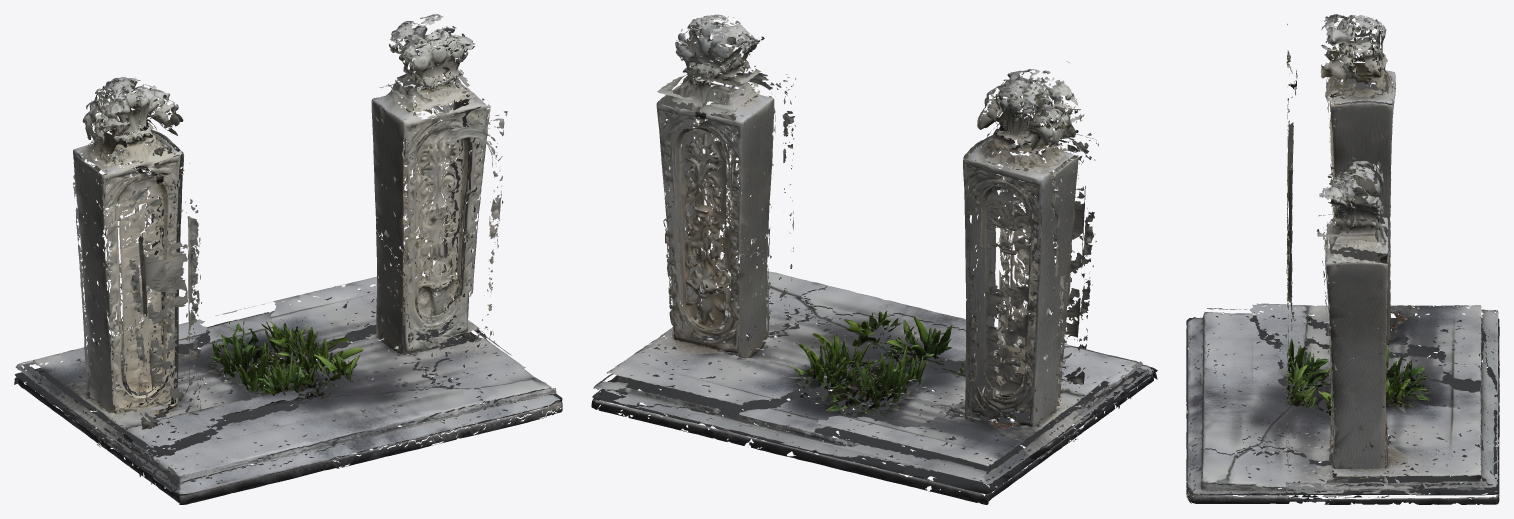
The model's file is kadin3.glb.
3 views of the same model, side by side, from view 1: azimuth 30°, elevation 25°; view 2: azimuth 150°, elevation 25°; view 3: azimuth 270°, elevation 25° (orthographic). The views are drawn at different scales.
Visible parts, largest first — view 1: Object_6, Object_5, Object_4, Object_7, Object_8, Object_9, Object_10, Object_11; view 2: Object_4, Object_6, Object_5, Object_7, Object_8, Object_9, Object_10, Object_11; view 3: Object_6, Object_4, Object_5, Object_7, Object_9, Object_8, Object_10, Object_11.
Part boxes in pixels (left/top/right/bottom): Object_6: left=14, top=26, right=562, bottom=493; Object_5: left=18, top=51, right=556, bottom=503; Object_4: left=14, top=14, right=562, bottom=495; Object_7: left=62, top=26, right=562, bottom=504; Object_8: left=64, top=25, right=505, bottom=464; Object_9: left=67, top=111, right=507, bottom=443; Object_10: left=83, top=35, right=478, bottom=442; Object_11: left=93, top=30, right=476, bottom=447; Object_4: left=592, top=14, right=1157, bottom=494; Object_6: left=591, top=23, right=1152, bottom=504; Object_5: left=663, top=28, right=1153, bottom=500; Object_7: left=607, top=23, right=1157, bottom=458; Object_8: left=648, top=21, right=1114, bottom=448; Object_9: left=658, top=60, right=1098, bottom=450; Object_10: left=689, top=15, right=1081, bottom=433; Object_11: left=680, top=21, right=1076, bottom=441; Object_6: left=1186, top=20, right=1499, bottom=504; Object_4: left=1186, top=15, right=1499, bottom=495; Object_5: left=1200, top=15, right=1481, bottom=489; Object_7: left=1186, top=15, right=1496, bottom=503; Object_9: left=1284, top=24, right=1400, bottom=497; Object_8: left=1261, top=20, right=1423, bottom=501; Object_10: left=1317, top=14, right=1368, bottom=504; Object_11: left=1333, top=15, right=1352, bottom=497.
Size of the model in its own units: 62361 by 53626 by 46532.
1 material, 1 textured.
